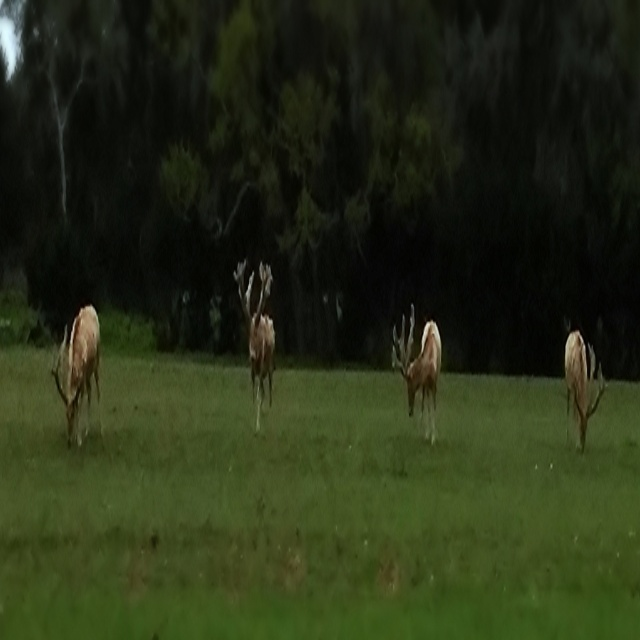Deer: (232, 259, 276, 430), (50, 300, 99, 451), (390, 304, 441, 443), (566, 329, 604, 443)
